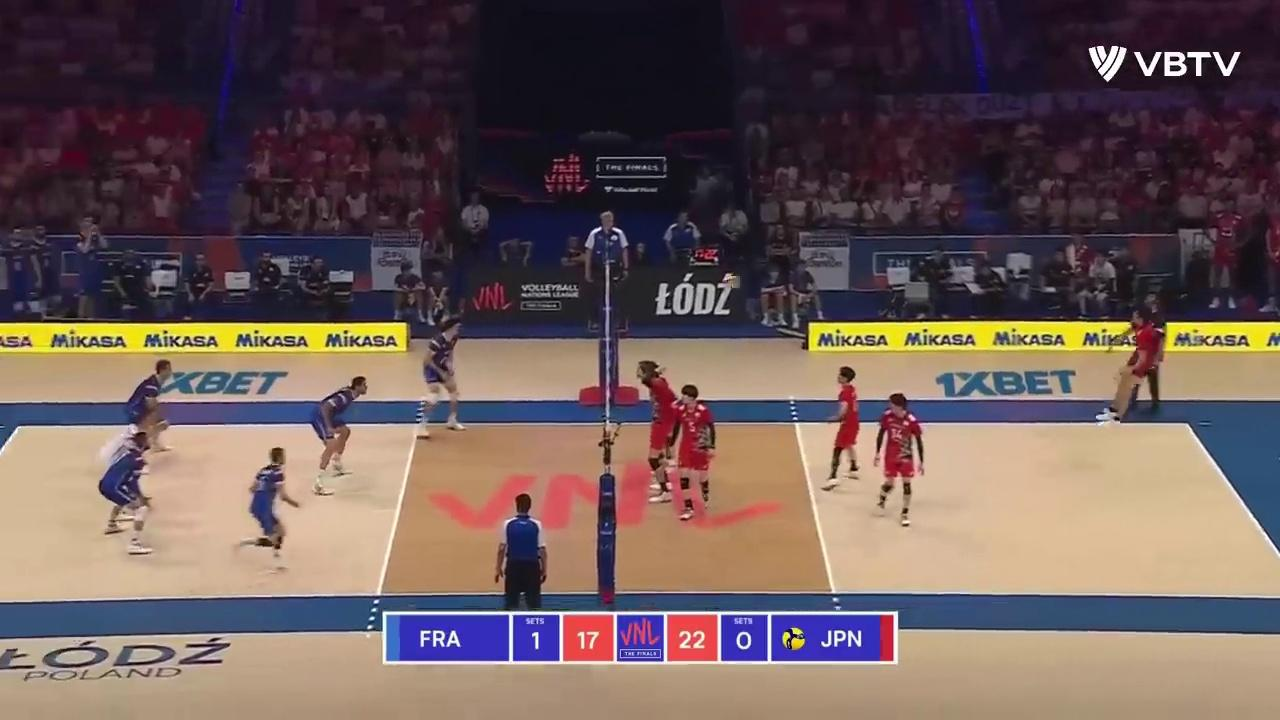ball: (723, 274, 739, 288)
